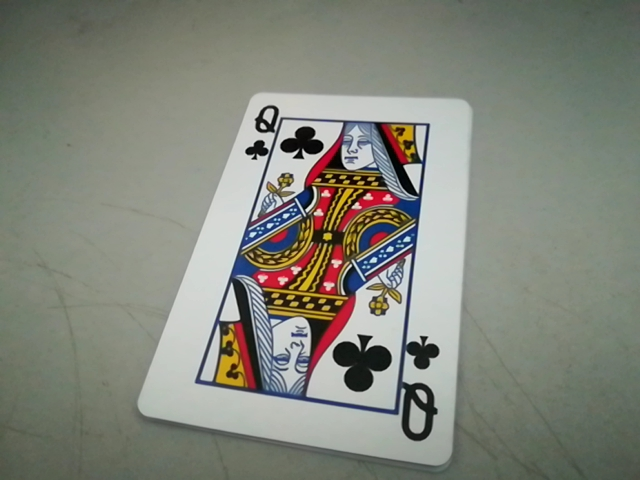mh q: (399, 332, 449, 446), (243, 97, 288, 158)
